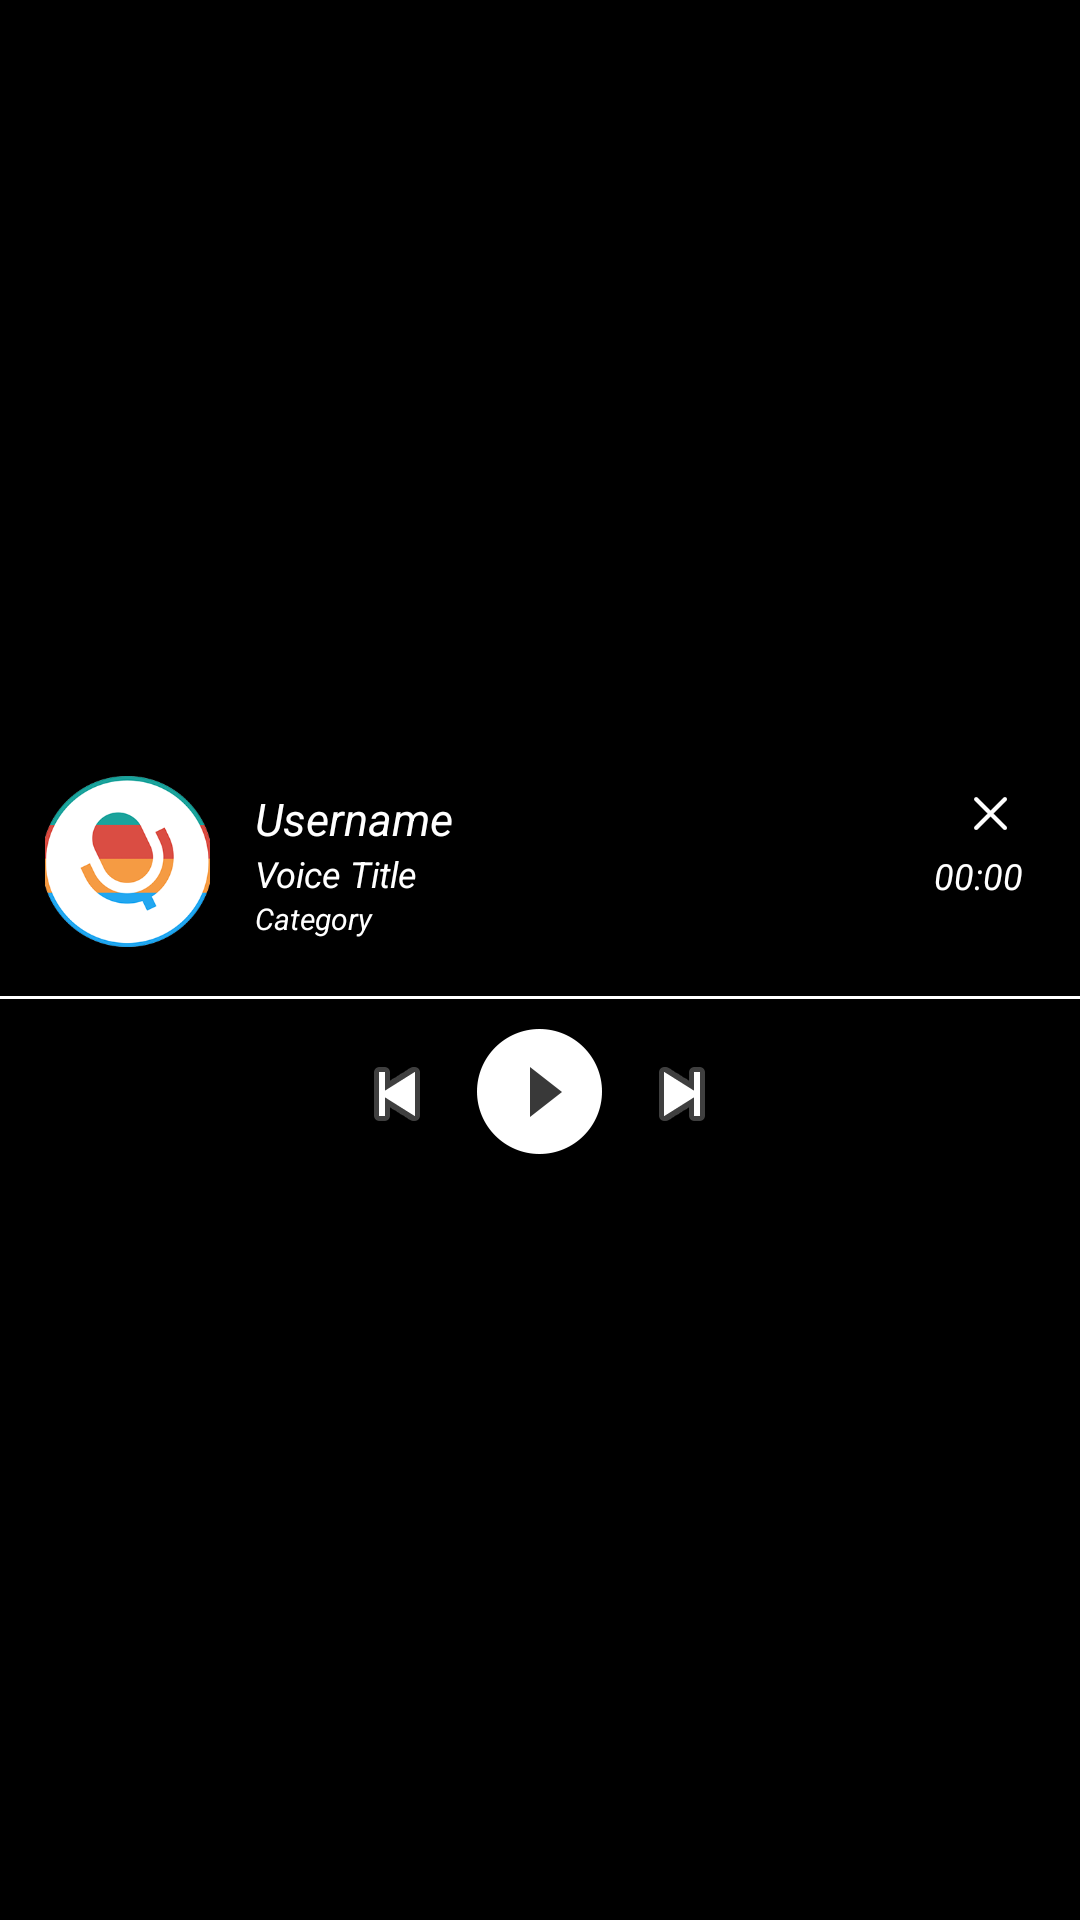

Icons on this 1080 x 1920 Android screen, each with its box as bbox(x1, y1, x2, y2):
drive close: bbox(974, 797, 1007, 830)
home play: bbox(477, 1029, 602, 1154)
next: bbox(659, 1067, 705, 1121)
previous: bbox(374, 1067, 420, 1121)
